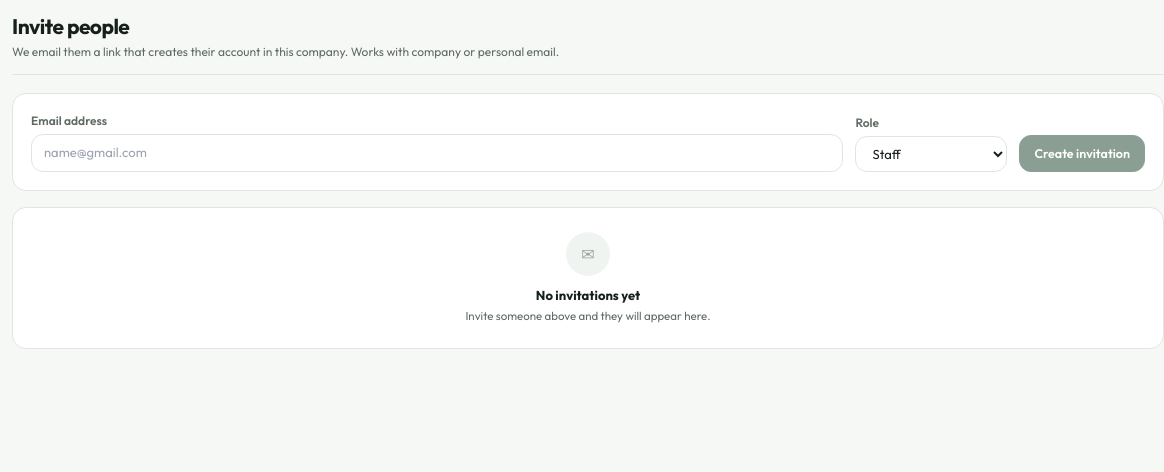
InvitePeople › if the email cannot be sent, says why and keeps the link to send by hand
Expected: the text "No invitations yet" is shown, 536,286 -> 640,305
Type "new@gmail.com" into the field with placeholder "name@gmail.com" at coordinates (437, 153), box 31,134 -> 843,172
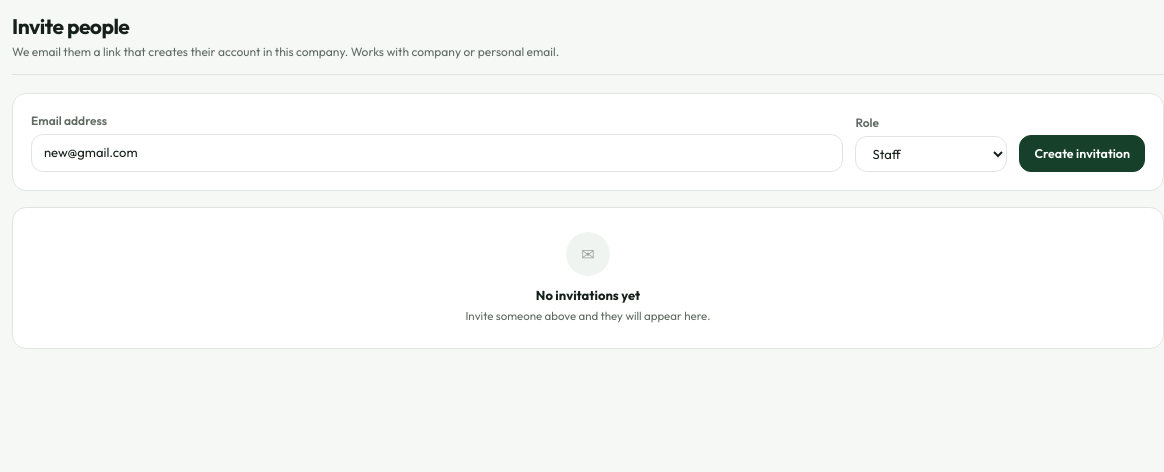
Click the button "Create invitation" at coordinates (1082, 153), box 1019,135 -> 1145,172
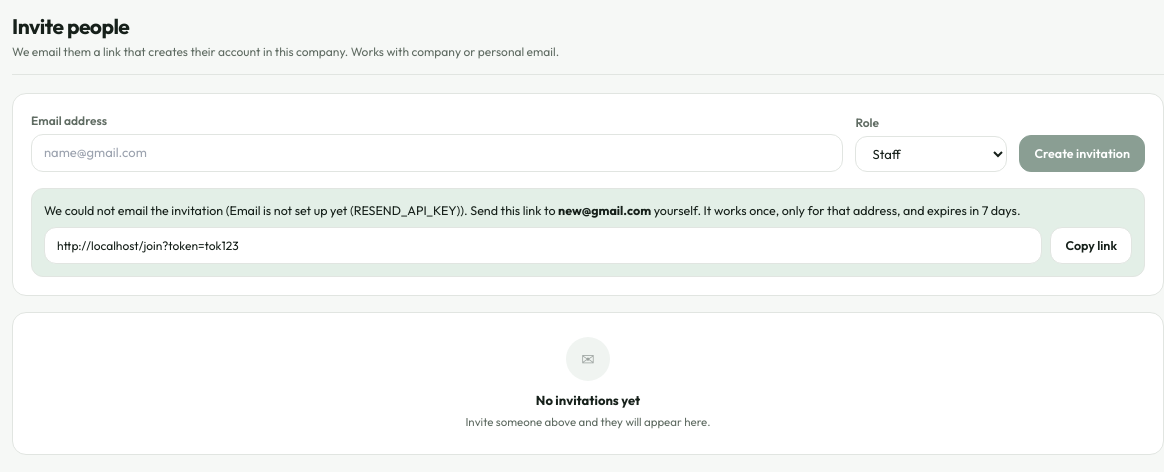
Expected: the text "We could not email the invitation .Email is not set up yet" is shown, 44,200 -> 1132,219
